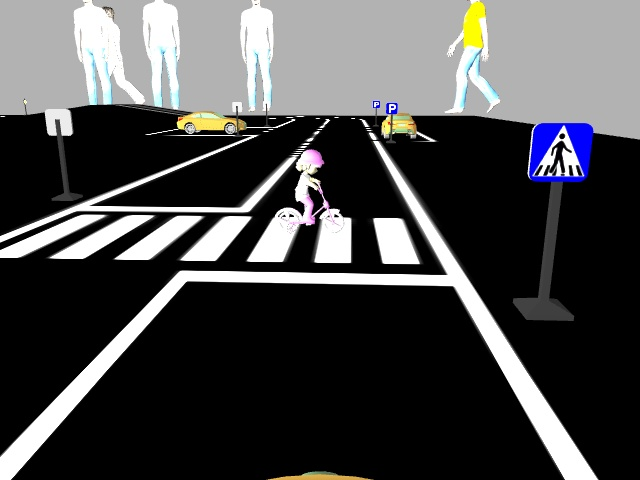Crosswalk: (527, 122, 591, 183)
Parking: (385, 101, 398, 116)
Pedestrian: (263, 146, 351, 237)
